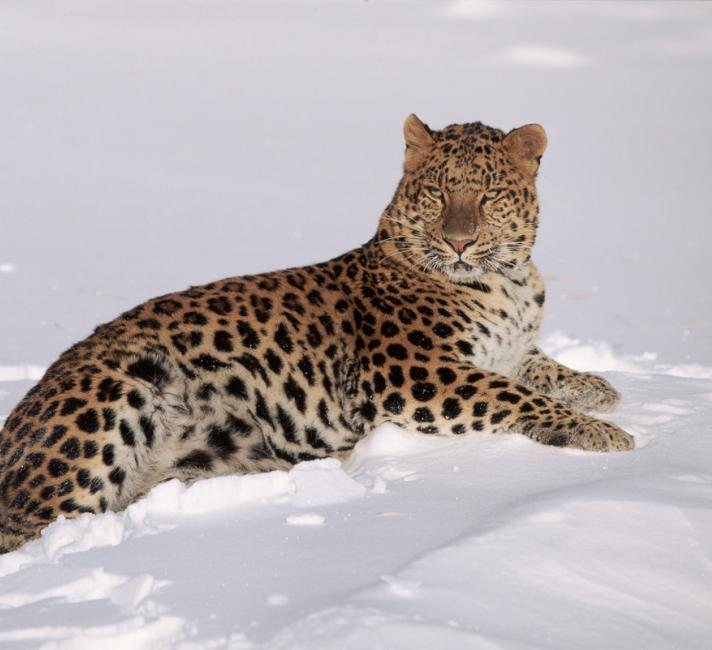amur_leopard: (363, 103, 589, 293)
